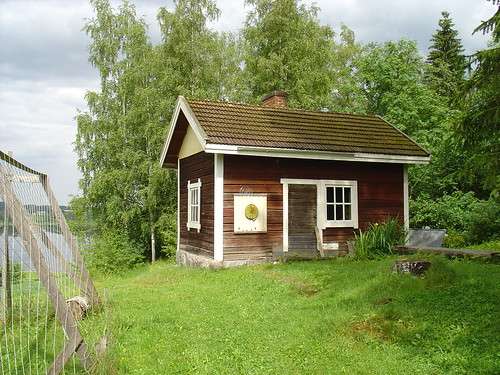building: (170, 101, 418, 269)
grass: (89, 254, 495, 375)
sky: (1, 1, 86, 185)
vegetation: (88, 37, 500, 247)
